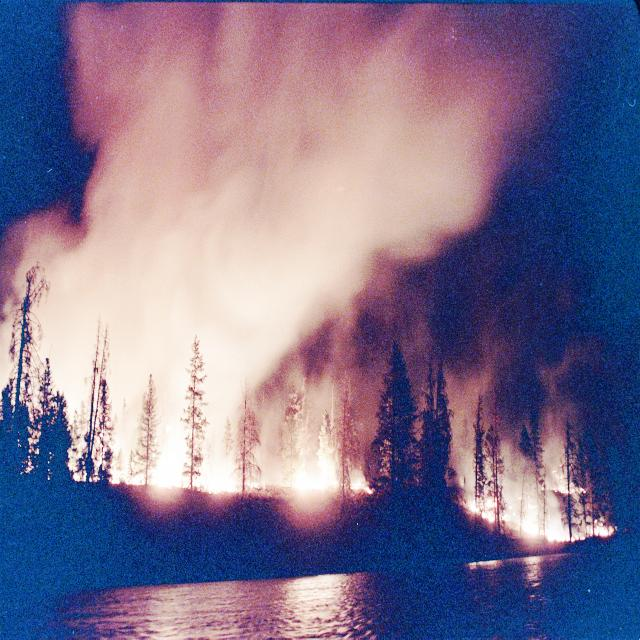api: (476, 490, 611, 545), (154, 424, 245, 495), (291, 451, 340, 498)
asap: (90, 73, 471, 246), (22, 257, 255, 385), (259, 258, 291, 357), (300, 257, 332, 318)
